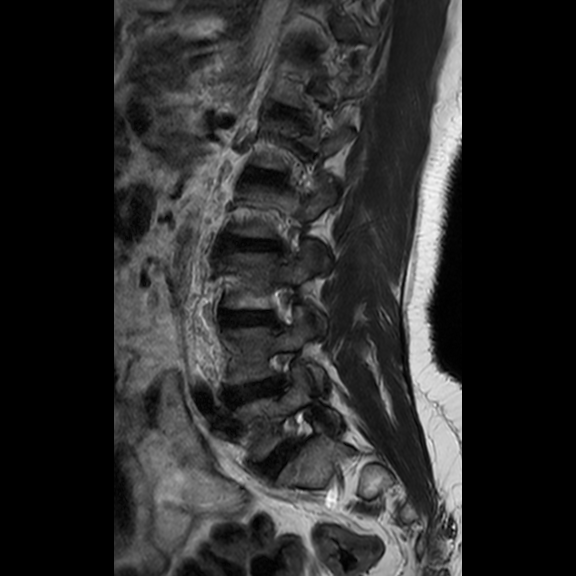LFS0: (259, 267, 318, 335)
LFS1: (277, 400, 335, 451)
LFS2: (258, 341, 314, 398)
